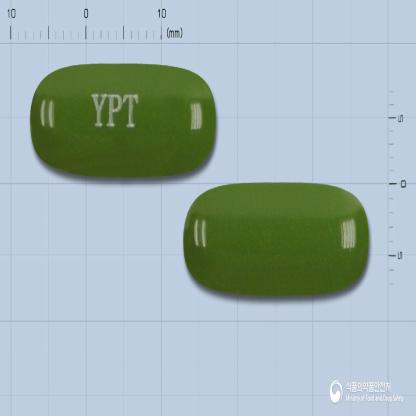pill: (28, 61, 217, 179), (183, 180, 370, 298)
